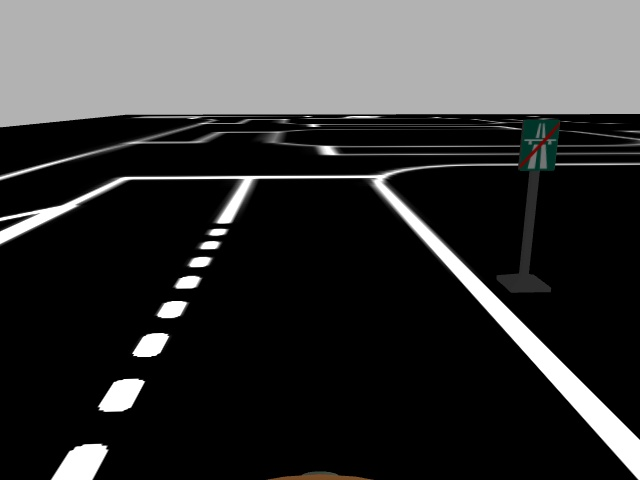leave_highway: (516, 119, 562, 173)
